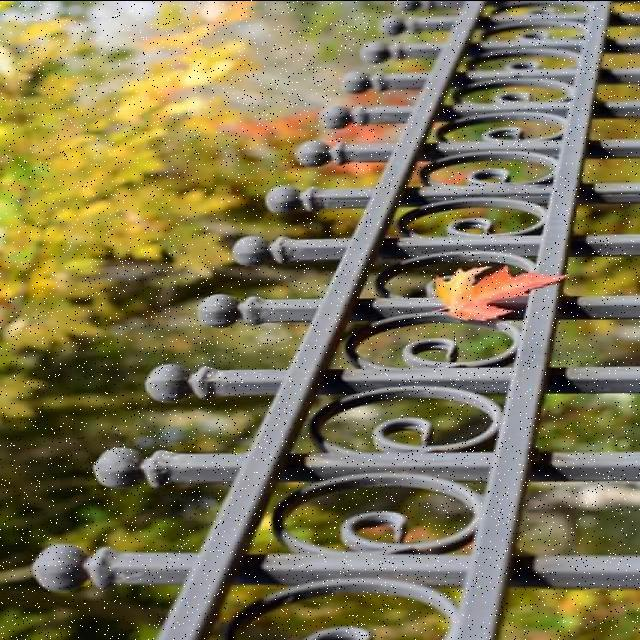fence line: (44, 207, 639, 633), (264, 1, 638, 289)
